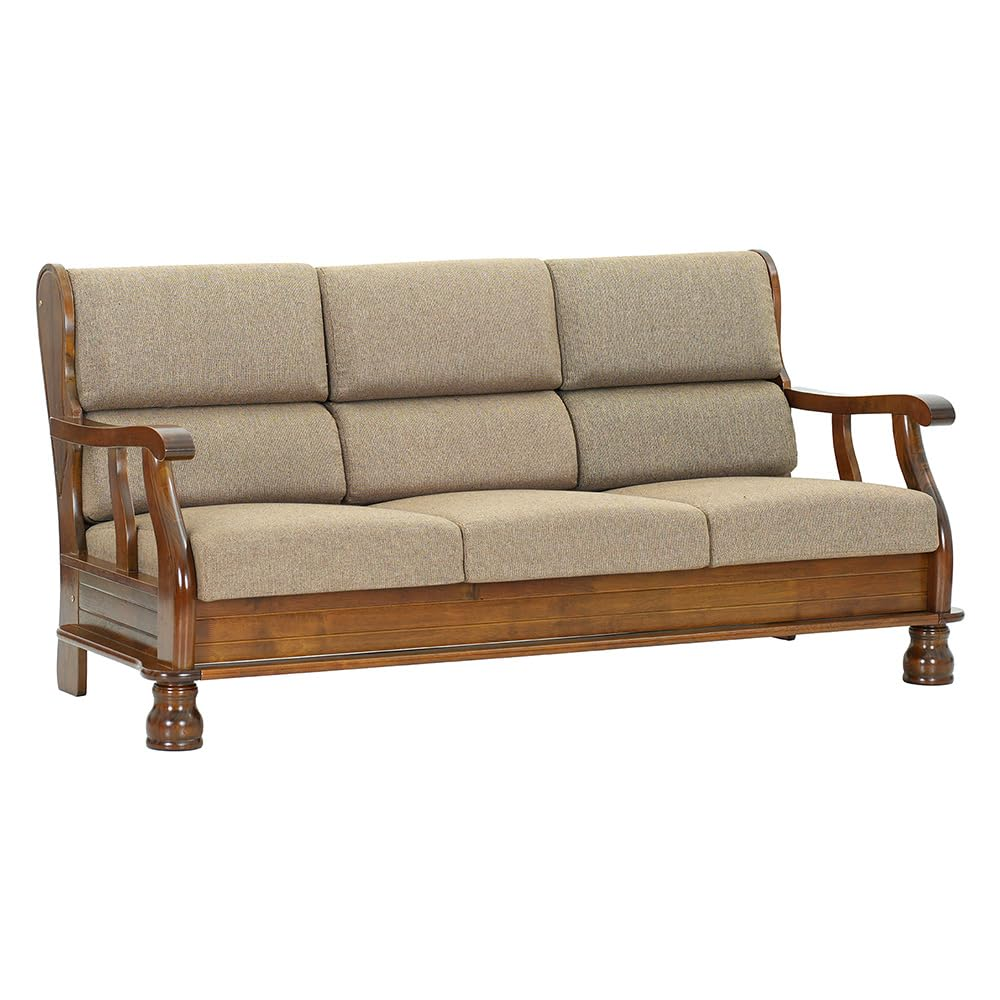backrest: (75, 250, 795, 505)
base: (202, 552, 938, 668)
leftarmrest: (775, 255, 962, 618)
leg: (150, 670, 202, 748), (905, 618, 955, 680), (52, 635, 88, 692), (772, 628, 805, 655)
rightarmrest: (38, 262, 200, 675)
seat: (195, 478, 938, 602)
